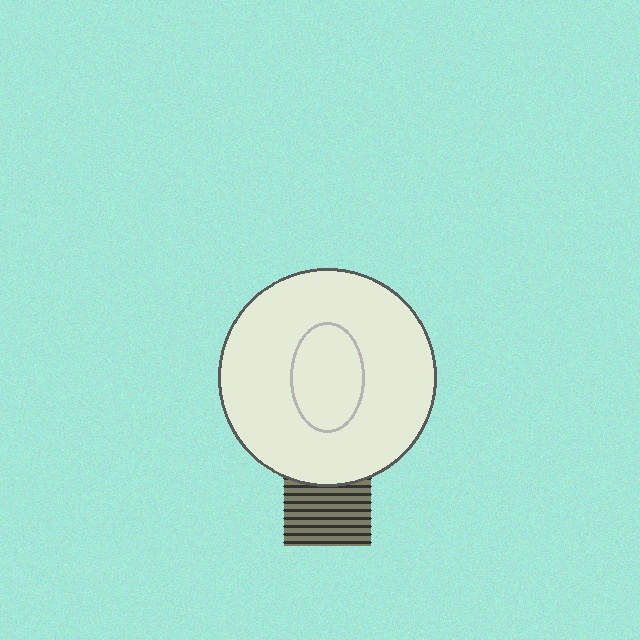bulb: (214, 264, 440, 550)
